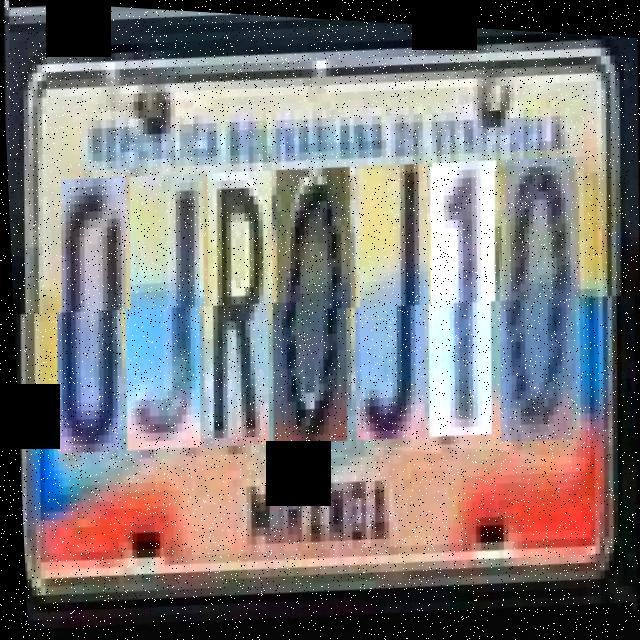0: (53, 175, 134, 458)
1: (424, 162, 506, 445)
J: (122, 172, 213, 456), (351, 164, 437, 448)
O: (268, 167, 359, 451), (498, 159, 585, 451)
R: (200, 170, 281, 453)
